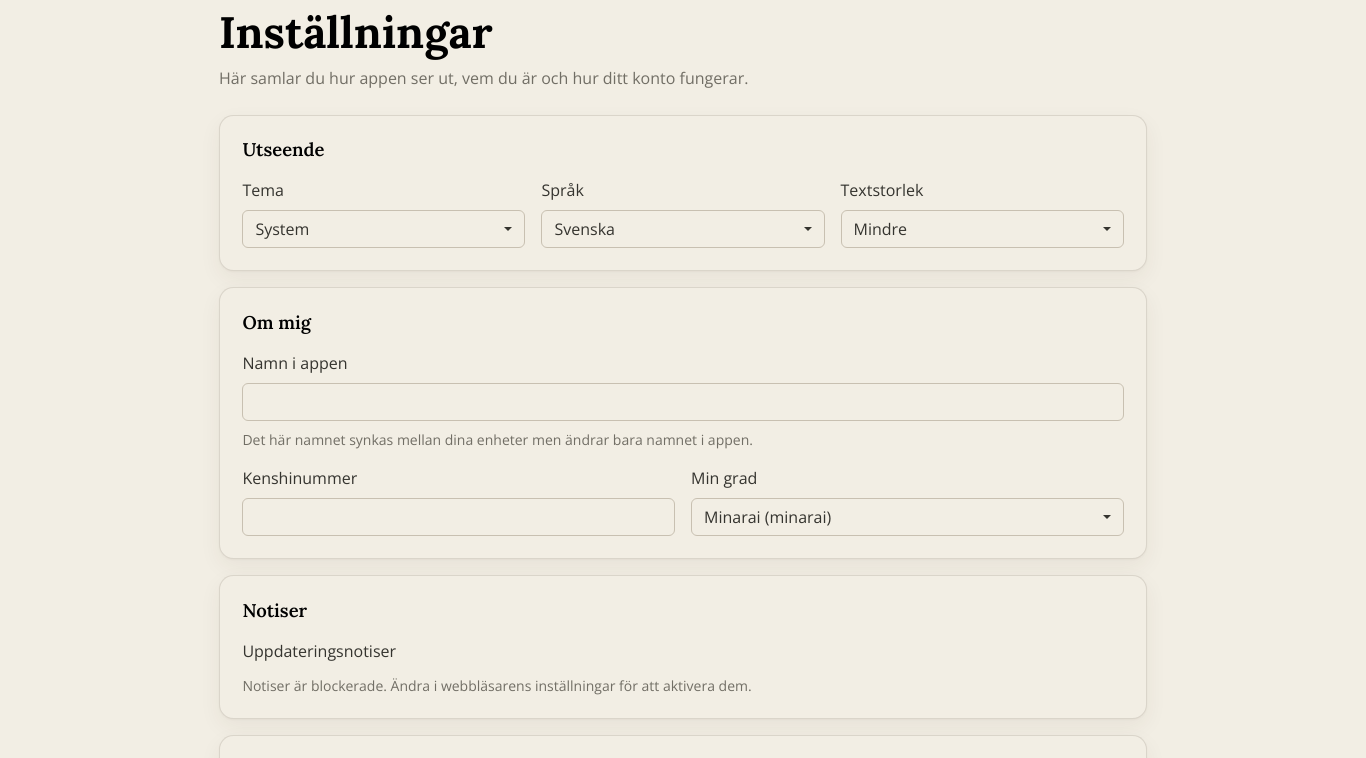
Test: Settings — kenshi number › says so instead of storing a number that is not digits
Type "SWE-12345" into the field labelled "Kenshinummer" at coordinates (459, 517), box [242,498,675,536]
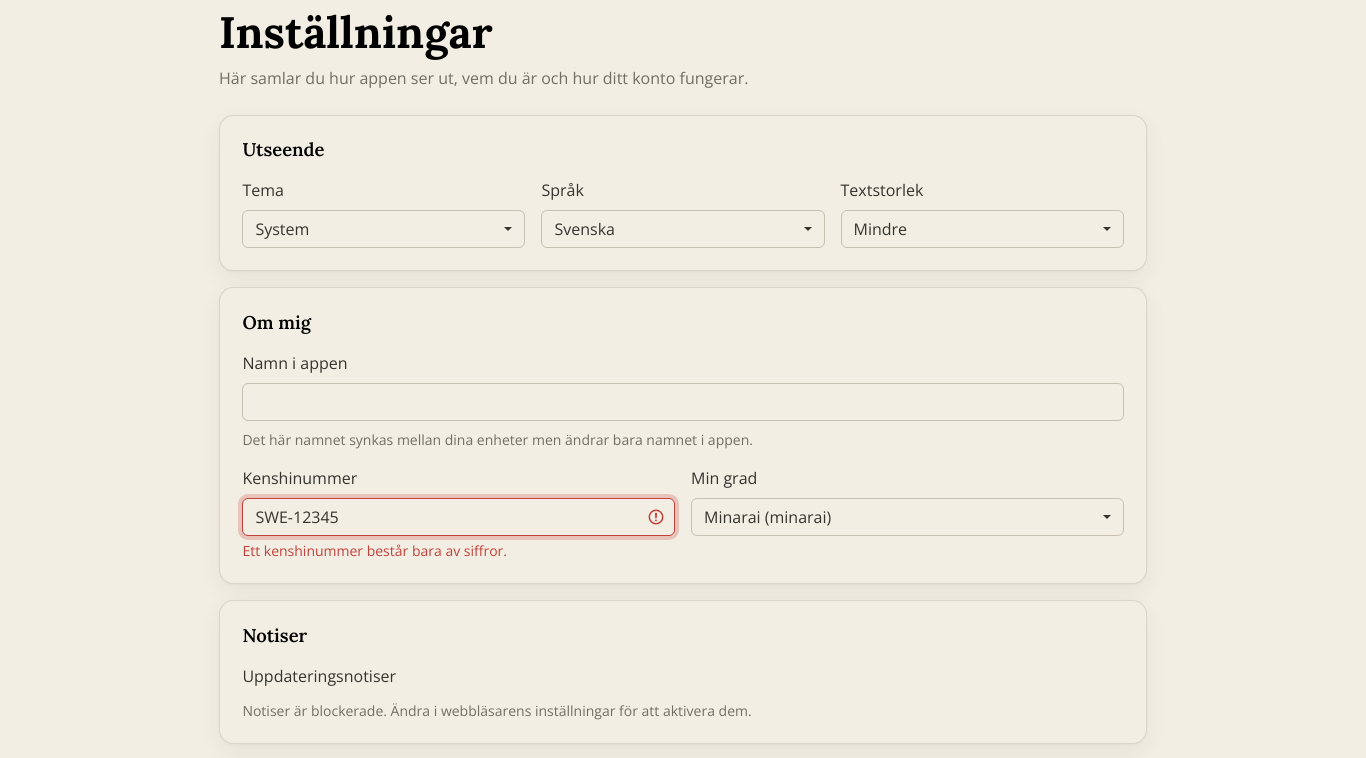
Check: the text "Ett kenshinummer består bara av siffror." is shown, box [242,541,507,560]
